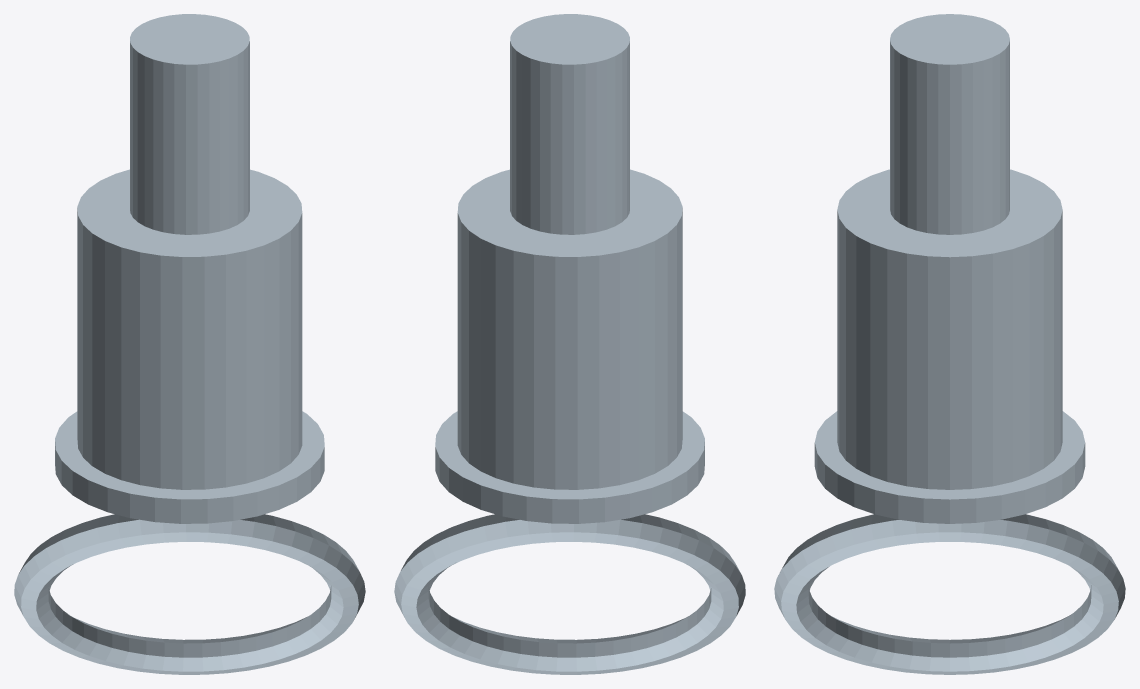
The model's file is referee_whistle.glb.
3 views of the same model, side by side, from view 1: azimuth 30°, elevation 25°; view 2: azimuth 150°, elevation 25°; view 3: azimuth 270°, elevation 25° (orthographic).
Visible parts, largest first — view 1: Whistle_Body, Mouthpiece, Lanyard_Ring, End_Cap; view 2: Whistle_Body, Mouthpiece, Lanyard_Ring, End_Cap; view 3: Whistle_Body, Mouthpiece, Lanyard_Ring, End_Cap.
Part boxes in pixels (x1,y1,x2,y2): Whistle_Body: [77, 169, 302, 489]; Mouthpiece: [130, 14, 249, 234]; Lanyard_Ring: [14, 514, 365, 674]; End_Cap: [55, 411, 324, 523]; Whistle_Body: [457, 169, 682, 489]; Mouthpiece: [510, 14, 629, 234]; Lanyard_Ring: [394, 514, 745, 674]; End_Cap: [435, 411, 704, 523]; Whistle_Body: [837, 169, 1062, 489]; Mouthpiece: [890, 14, 1009, 234]; Lanyard_Ring: [774, 514, 1125, 674]; End_Cap: [814, 411, 1085, 523].
Bounding box in the file's own units: 0.2337 × 0.4167 × 0.2339.
